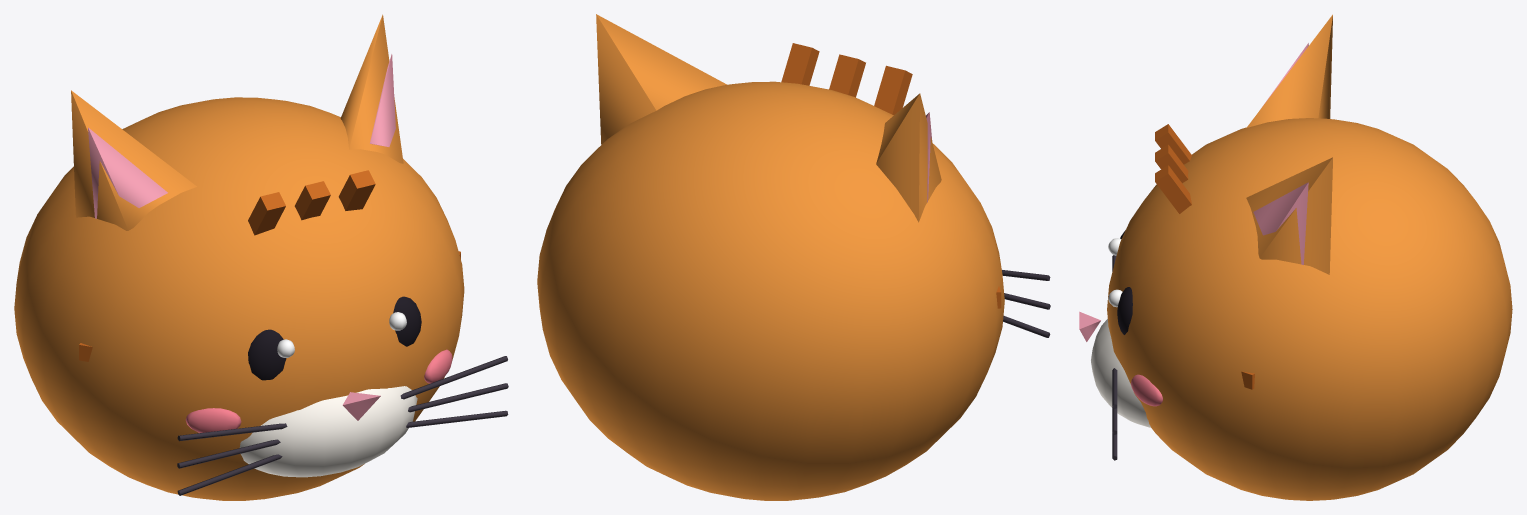
Rendered from head_cat.glb.
3 renders of one model, left to right at view 1: azimuth 30°, elevation 25°; view 2: azimuth 150°, elevation 25°; view 3: azimuth 270°, elevation 25°, orthographic. The views are drawn at different scales.
Bounding box in the file's own units: 1.06 × 1.07 × 1.07.
